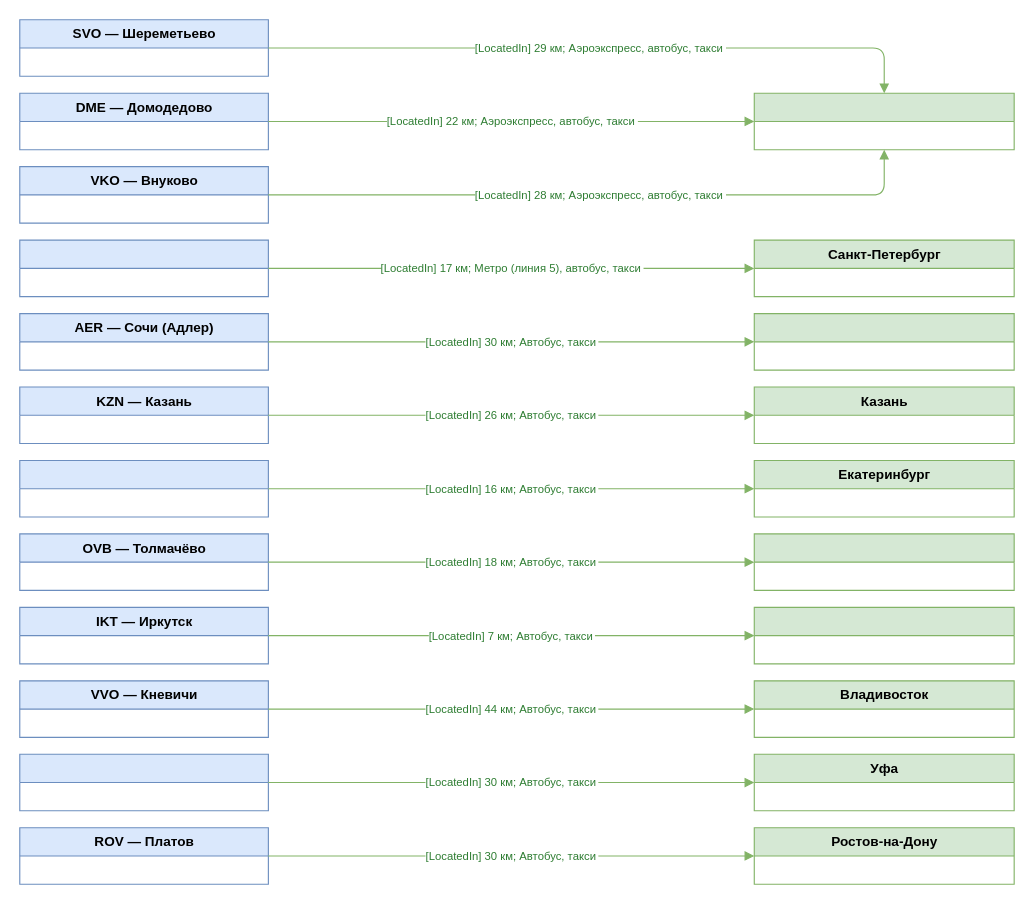
Image size: 1034x904. Some labels were removed from this diagram. Here are the shapes that lost their labels. From the top down, the centre of each, then its label:
At point 883,121: "Москва".
At point 143,268: "LED — Пулково".
At point 883,341: "Сочи".
At point 143,488: "SVX — Кольцово".
At point 883,561: "Новосибирск".
At point 883,635: "Иркутск".
At point 143,782: "UFA — Уфа".
